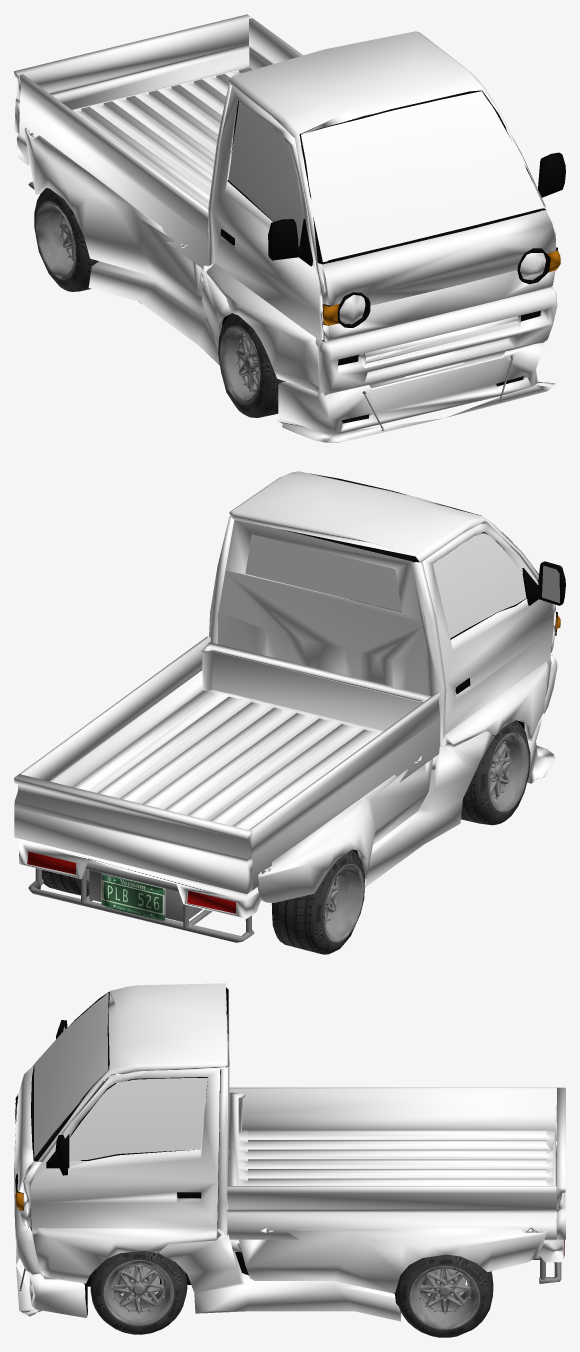
Rendered from carry_lo.glb.
3 views of the same model, one above another, from view 1: azimuth 30°, elevation 25°; view 2: azimuth 150°, elevation 25°; view 3: azimuth 270°, elevation 25° (orthographic). The views are drawn at different scales.
Visible parts, largest first — view 1: Object_11, Object_30, Object_28, wheel_fr, wheel_rr, Object_17; view 2: Object_11, Object_30, wheel_rr, wheel_fr, Object_6, Object_33, Object_28, Object_16, Object_7, wheel_rl; view 3: Object_11, Object_30, wheel_fl, wheel_rl, Object_28, Object_17, Object_6, Object_25.
Part boxes in pixels (left/top/right/bottom): Object_11: left=14, top=14, right=557, bottom=434; Object_30: left=228, top=91, right=545, bottom=324; Object_28: left=220, top=90, right=565, bottom=327; wheel_fr: left=218, top=313, right=284, bottom=417; wheel_rr: left=34, top=188, right=98, bottom=291; Object_17: left=276, top=381, right=555, bottom=442; Object_11: left=14, top=471, right=557, bottom=919; Object_30: left=245, top=487, right=538, bottom=638; wheel_rr: left=271, top=850, right=364, bottom=954; wheel_fr: left=461, top=720, right=530, bottom=825; Object_6: left=28, top=862, right=254, bottom=942; Object_33: left=101, top=873, right=165, bottom=921; Object_28: left=309, top=473, right=565, bottom=694; Object_16: left=27, top=851, right=235, bottom=913; Object_7: left=89, top=870, right=202, bottom=921; wheel_rl: left=42, top=869, right=89, bottom=896; Object_11: left=14, top=983, right=565, bottom=1321; Object_30: left=14, top=993, right=207, bottom=1193; wheel_fl: left=90, top=1250, right=187, bottom=1334; wheel_rl: left=396, top=1254, right=493, bottom=1337; Object_28: left=15, top=992, right=207, bottom=1210; Object_17: left=16, top=1247, right=42, bottom=1316; Object_6: left=533, top=1156, right=561, bottom=1283; Object_25: left=28, top=1065, right=203, bottom=1230.
Bounding box in the file's own units: 1.78 × 1.73 × 3.3.
Materials: 17 (4 with a texture image).
